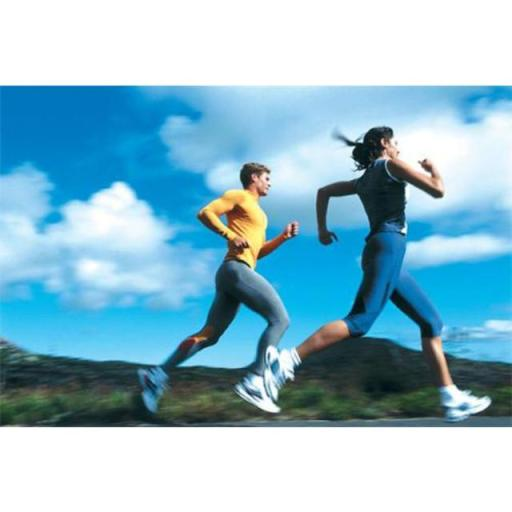Running: (266, 121, 498, 422), (135, 156, 307, 421)
